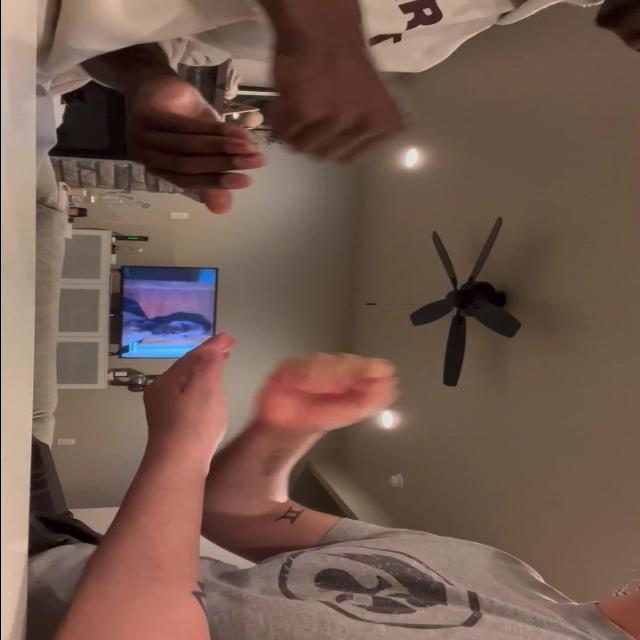Rock: (262, 49, 409, 165), (254, 352, 400, 438)
